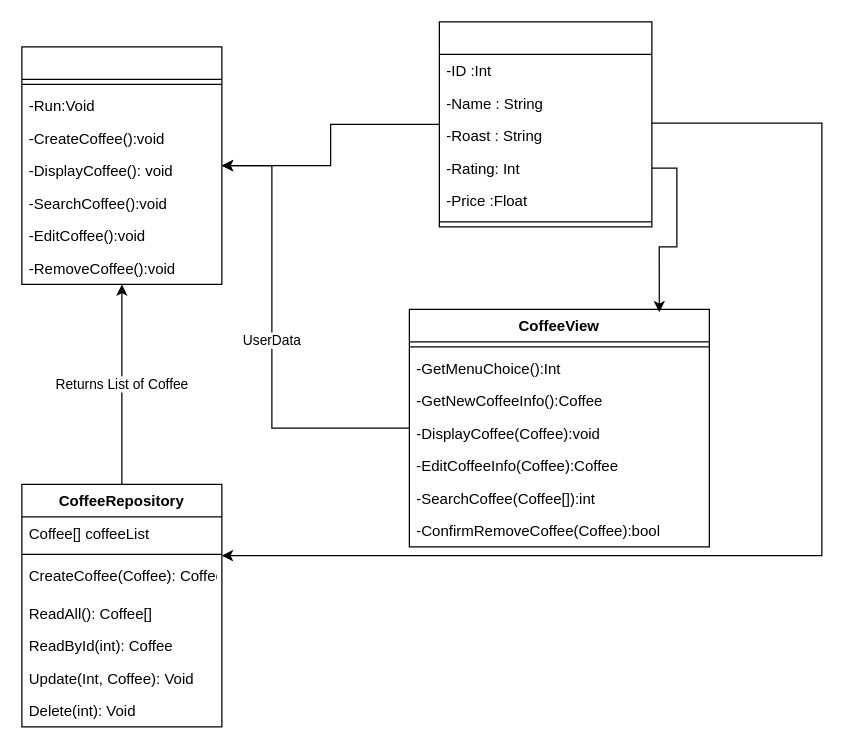
Some shapes in this 854 by 753 pixel diagram are drawn without their labels. Here are the shapes that lost their labels. From the top down, the box of each, then its label:
(438, 21, 652, 227): Coffee
(21, 46, 222, 284): CoffeeController
